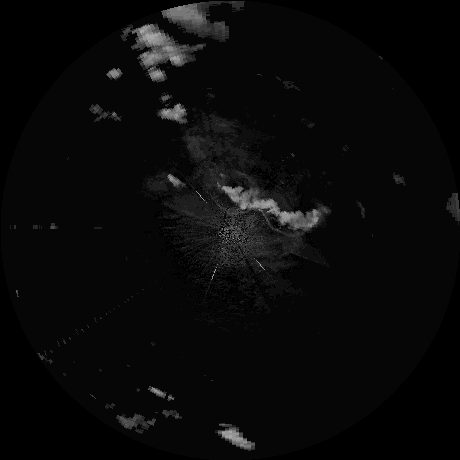frontgust: (258, 210, 301, 237), (210, 199, 249, 215), (231, 170, 260, 187)
